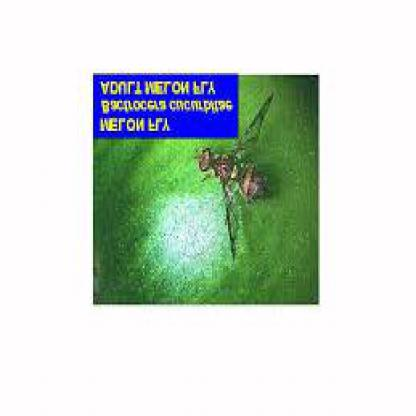fruit fly: (198, 96, 274, 262)
